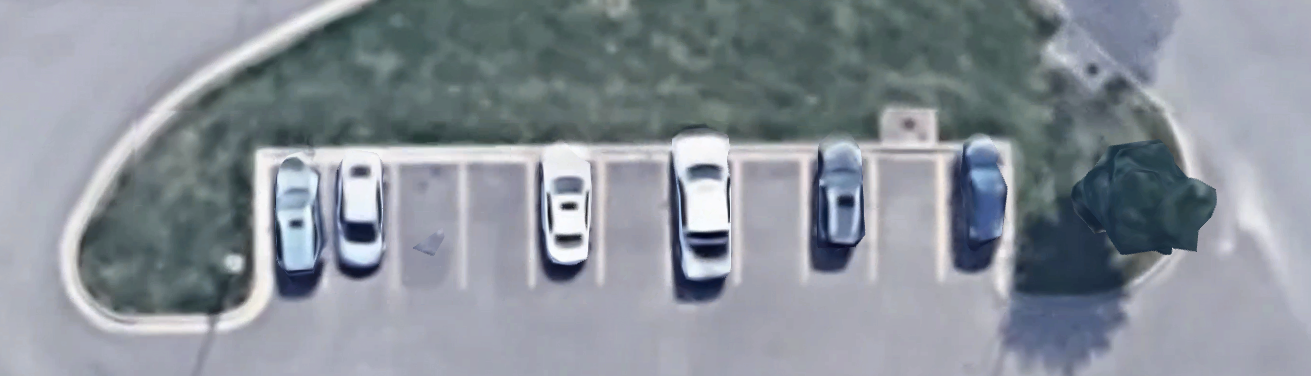Occupied: (665, 151, 737, 283), (532, 153, 603, 284), (803, 152, 874, 282), (260, 151, 328, 285), (329, 151, 396, 285), (941, 151, 1006, 282)
Vacant: (459, 153, 532, 283), (873, 150, 943, 282), (602, 150, 669, 283), (736, 153, 805, 282), (399, 152, 464, 286)
